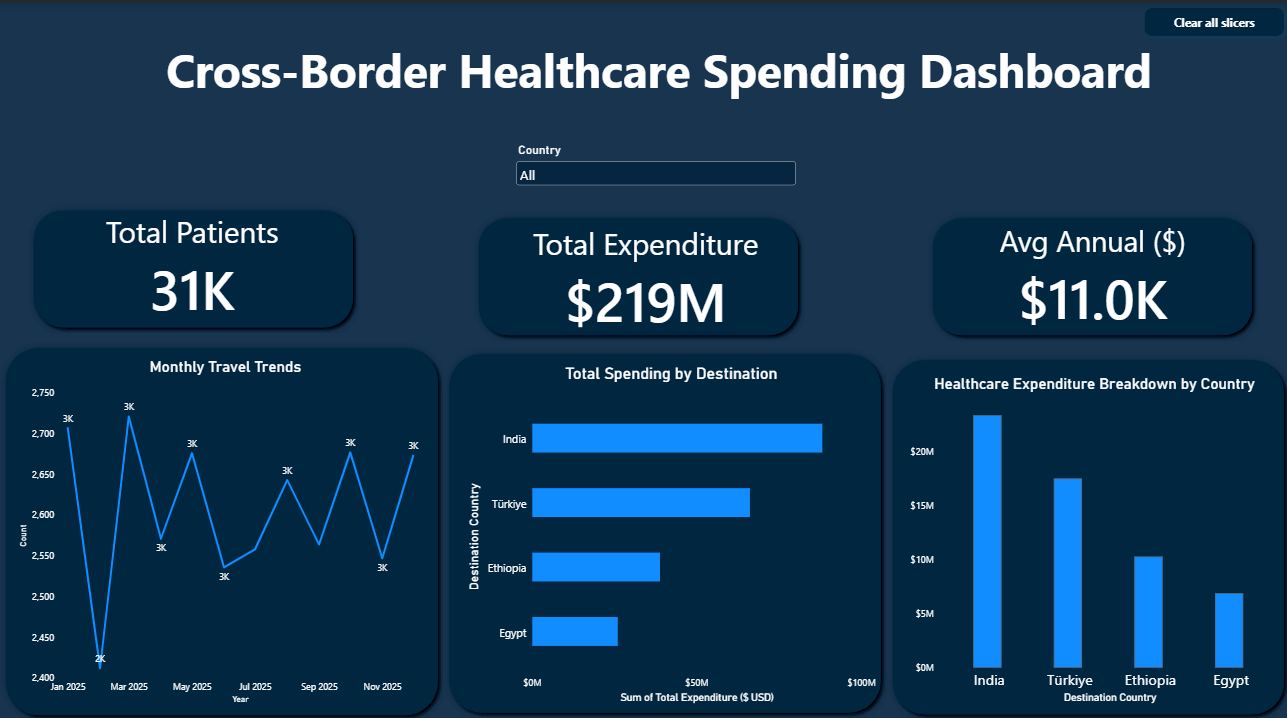

Layout of this report page (visuals, bound fields, positions):
{"tool":"powerbi","page":{"name":"Cross Border Dashboard","canvas":[1920,1080],"ordinal":0},"visuals":[{"type":"group","id":"g1","title":"Group 1","box":[0,300.7,1919.5,769.7],"z":0},{"type":"shape","box":[702.4,313,492.9,192.2],"z":0,"group":"g1"},{"type":"slicer","fields":{"Values":["Somalia_CrossBorder_Healthcare_Dataset_Full_Year_2025.Destination Country"]},"box":[763.9,209.4,426,104.7],"z":1000},{"type":"shape","box":[1380.1,313,492.9,192.2],"z":1000,"group":"g1"},{"type":"shape","box":[41.9,300.7,492.9,192.2],"z":2000,"group":"g1"},{"type":"cardVisual","title":"Total Patients","fields":{"Data":["CountNonNull(Somalia_CrossBorder_Healthcare_Dataset_Full_Year_2025.Patient ID)"]},"box":[80.5,312.6,411.5,167.8],"z":2000},{"type":"cardVisual","title":"Avg Annual ($)","fields":{"Data":["Avg(Somalia_CrossBorder_Healthcare_Dataset_Full_Year_2025.Avg Annual Income ($ USD))"]},"box":[1407.2,325.3,438.7,167.6],"z":3000},{"type":"shape","box":[0,506.1,660.5,564.4],"z":3000,"group":"g1"},{"type":"lineChart","title":"Monthly Travel Trends","fields":{"Category":["Somalia_CrossBorder_Healthcare_Dataset_Full_Year_2025.Travel Date.Variation.Date Hierarchy.Year","Somalia_CrossBorder_Healthcare_Dataset_Full_Year_2025.Travel Date.Variation.Date Hierarchy.Quarter","Somalia_CrossBorder_Healthcare_Dataset_Full_Year_2025.Travel Date.Variation.Date Hierarchy.Month"],"Y":["CountNonNull(Somalia_CrossBorder_Healthcare_Dataset_Full_Year_2025.Travel Date)"]},"box":[11.5,514.9,648.3,544.8],"z":4000},{"type":"shape","box":[659.8,515.2,659.8,551.7],"z":4000,"group":"g1"},{"type":"barChart","title":"Total Spending by Destination","fields":{"Category":["Somalia_CrossBorder_Healthcare_Dataset_Full_Year_2025.Destination Country"],"Y":["Sum(Somalia_CrossBorder_Healthcare_Dataset_Full_Year_2025.Total Expenditure ($ USD))"]},"box":[678.1,524.1,641.4,535.6],"z":5000},{"type":"shape","box":[1319.5,524.4,600,544.8],"z":5000,"group":"g1"},{"type":"ribbonChart","title":"Healthcare Expenditure Breakdown by Country","fields":{"Category":["Somalia_CrossBorder_Healthcare_Dataset_Full_Year_2025.Destination Country"],"Y":["Sum(Somalia_CrossBorder_Healthcare_Dataset_Full_Year_2025.Accommodation Cost ($ USD))"]},"box":[1337.9,540.2,581.6,519.5],"z":6000},{"type":"shape","box":[227.6,29.9,1505.7,140.2],"z":7000},{"type":"cardVisual","fields":{"Data":["Sum(Somalia_CrossBorder_Healthcare_Dataset_Full_Year_2025.Total Expenditure ($ USD))"]},"box":[747.1,314.9,427.6,170.1],"z":8000},{"type":"actionButton","box":[1694.2,0,225.3,59.8],"z":9000}]}

Visuals, with their boxes in screenshot pixels (x1, y1, x2, y2), scaled from the page's 1920x1080 canvas onto the 1287x718 screenshot:
"Group 1" group: <region>0, 200, 1286, 712</region>
shape: <region>471, 208, 801, 336</region>
slicer - Somalia_CrossBorder_Healthcare_Dataset_Full_Year_2025.Destination Country: <region>512, 139, 798, 209</region>
shape: <region>925, 208, 1255, 336</region>
shape: <region>28, 200, 358, 328</region>
"Total Patients" cardVisual: <region>54, 208, 330, 319</region>
"Avg Annual ($)" cardVisual: <region>943, 216, 1237, 328</region>
shape: <region>0, 336, 443, 712</region>
"Monthly Travel Trends" lineChart: <region>8, 342, 442, 705</region>
shape: <region>442, 343, 885, 709</region>
"Total Spending by Destination" barChart: <region>455, 348, 884, 705</region>
shape: <region>884, 349, 1286, 711</region>
"Healthcare Expenditure Breakdown by Country" ribbonChart: <region>897, 359, 1286, 705</region>
shape: <region>153, 20, 1162, 113</region>
cardVisual - Sum(Somalia_CrossBorder_Healthcare_Dataset_Full_Year_2025.Total Expenditure ($ USD)): <region>501, 209, 787, 322</region>
actionButton: <region>1136, 0, 1286, 40</region>
